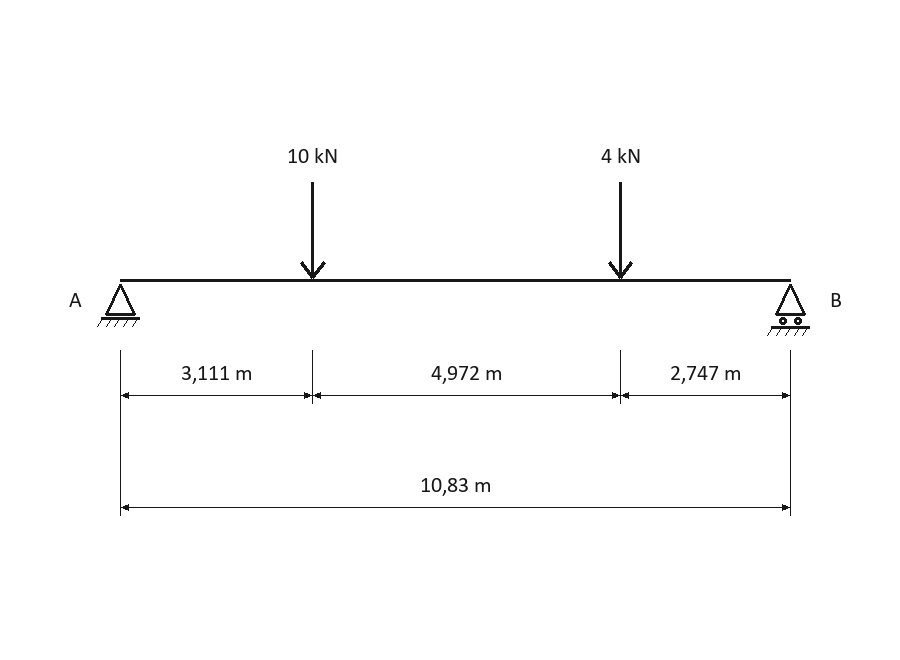pin_support: (97, 284, 140, 327)
point_load: (300, 182, 326, 279), (608, 182, 633, 279)
roller_support: (767, 284, 810, 336)
